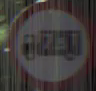Heavy Vehicles: (6, 4, 90, 77)
